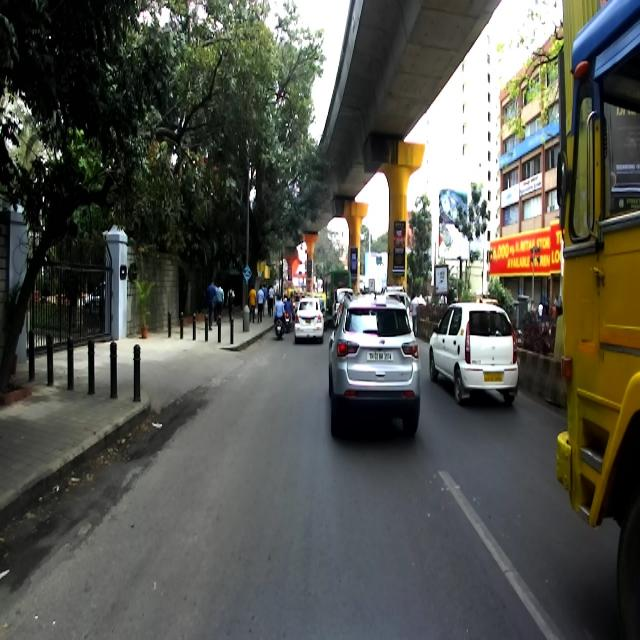Car_JEEP: (328, 291, 420, 438)
Car_Maruti-Suzuki: (292, 296, 324, 348)
Car_TATA: (429, 302, 519, 406)
scooter: (274, 318, 283, 340)
truck: (554, 1, 639, 639)
